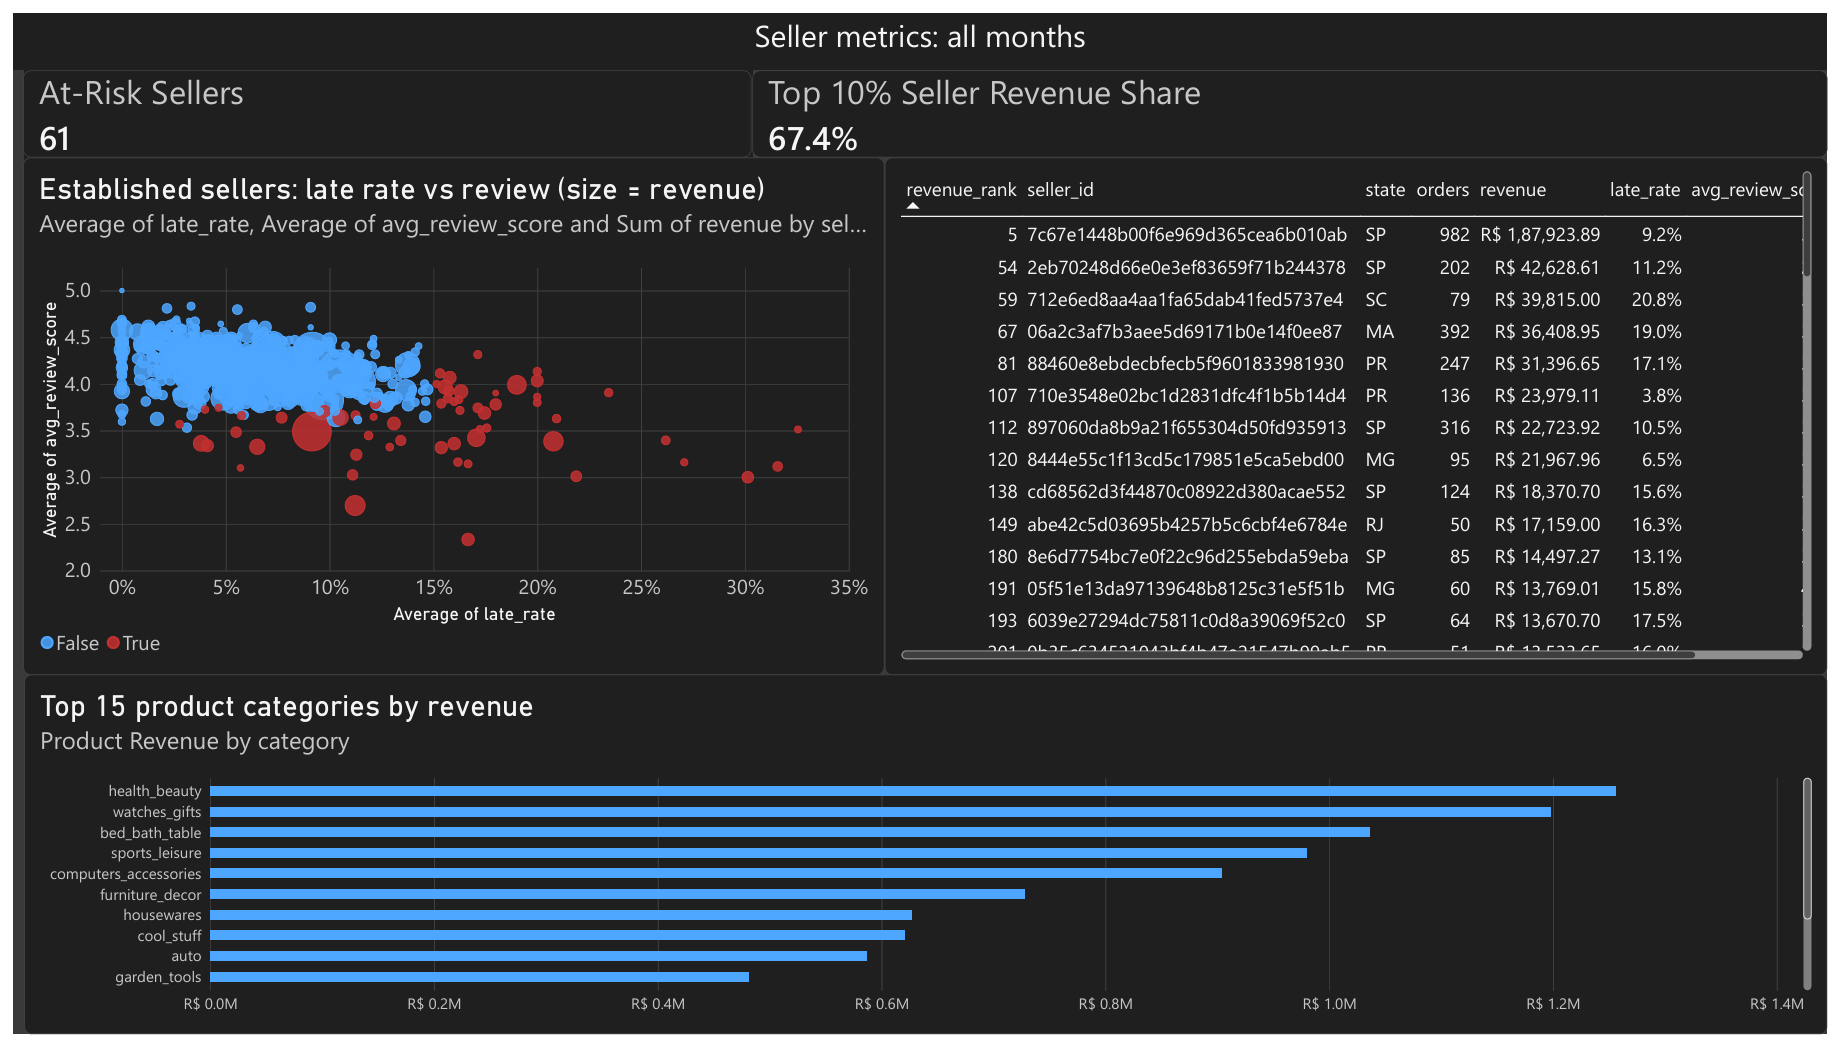

Layout of this report page (visuals, bound fields, positions):
{"tool":"powerbi","page":{"name":"Sellers & Categories","canvas":[1920,1080],"ordinal":2},"visuals":[{"type":"textbox","box":[10.9,0,770.9,586.3],"z":0},{"type":"textbox","box":[0,0,1920.1,59.7],"z":1000},{"type":"cardVisual","fields":{"Data":["_Measures.At-Risk Sellers"]},"box":[10.3,59.7,771.9,92.6],"z":2000},{"type":"cardVisual","fields":{"Data":["_Measures.Top 10% Seller Revenue Share"]},"box":[782.2,59.7,1138.3,92.6],"z":3000},{"type":"scatterChart","title":"Established sellers: late rate vs review (size = revenue)","fields":{"Category":["seller_scorecard.seller_id"],"Series":["seller_scorecard.is_at_risk"],"Size":["Sum(seller_scorecard.revenue)"],"X":["Avg(seller_scorecard.late_rate)"],"Y":["Avg(seller_scorecard.avg_review_score)"]},"box":[10.3,152.3,911.8,547.5],"z":4000},{"type":"tableEx","fields":{"Values":["seller_scorecard.revenue_rank","seller_scorecard.seller_id","seller_scorecard.state","seller_scorecard.orders","seller_scorecard.revenue","seller_scorecard.late_rate","seller_scorecard.avg_review_score","seller_scorecard.is_at_risk"]},"box":[922,152,998,548],"z":5000},{"type":"clusteredBarChart","title":"Top 15 product categories by revenue","fields":{"Category":["dim_products.category"],"Y":["_Measures.Product Revenue"]},"box":[11,698.8,1909.5,381.5],"z":6000}]}

Visuals, with their boxes in screenshot pixels (x1, y1, x2, y2), scaled from the page's 1920x1080 canvas onto the 1837x1042 screenshot:
textbox: <region>10, 0, 748, 566</region>
textbox: <region>0, 0, 1836, 58</region>
cardVisual - _Measures.At-Risk Sellers: <region>10, 58, 748, 147</region>
cardVisual - _Measures.Top 10% Seller Revenue Share: <region>748, 58, 1836, 147</region>
"Established sellers: late rate vs review (size = revenue)" scatterChart: <region>10, 147, 882, 675</region>
tableEx - seller_scorecard.revenue_rank x seller_scorecard.seller_id: <region>882, 147, 1836, 675</region>
"Top 15 product categories by revenue" clusteredBarChart: <region>11, 674, 1836, 1041</region>
